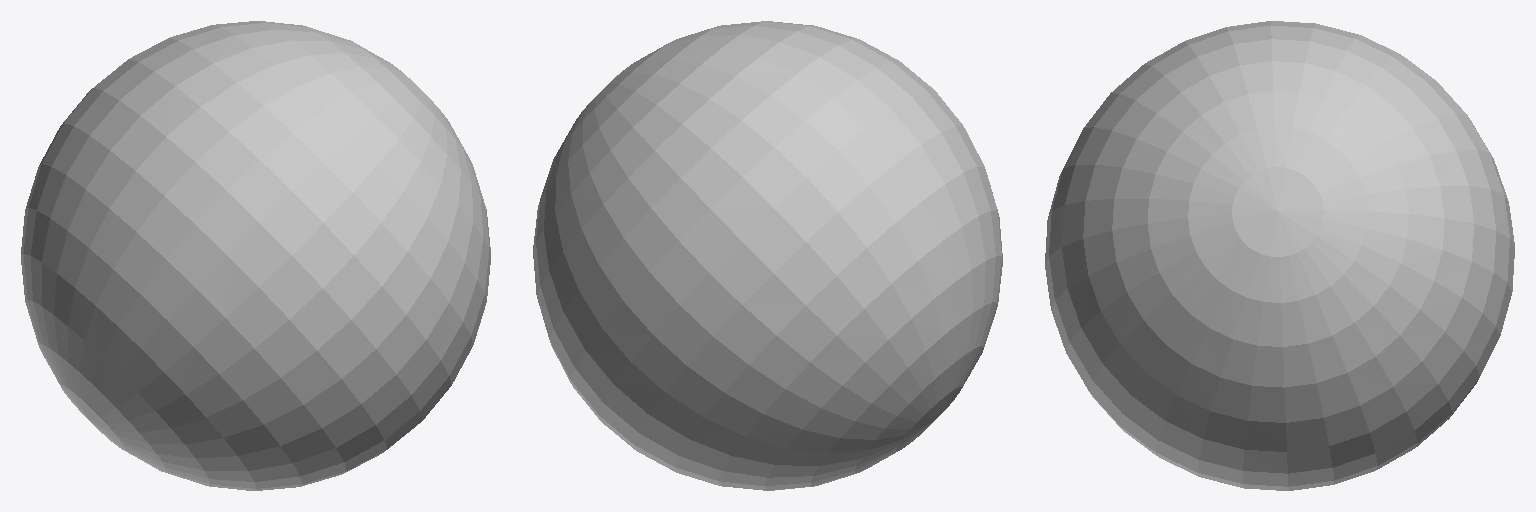
Rendered from Earth.obj.
3 views of the same model, side by side, from view 1: azimuth 30°, elevation 25°; view 2: azimuth 150°, elevation 25°; view 3: azimuth 270°, elevation 25° (orthographic).
Parts seen in each view (by area): view 1: 3; view 2: 3; view 3: 3.
Part boxes in pixels (x1,y1,x2,y2): 3: (21,21,490,490); 3: (533,21,1002,490); 3: (1045,21,1514,490).
Size of the model in its own units: 2.75 by 2.75 by 2.75.